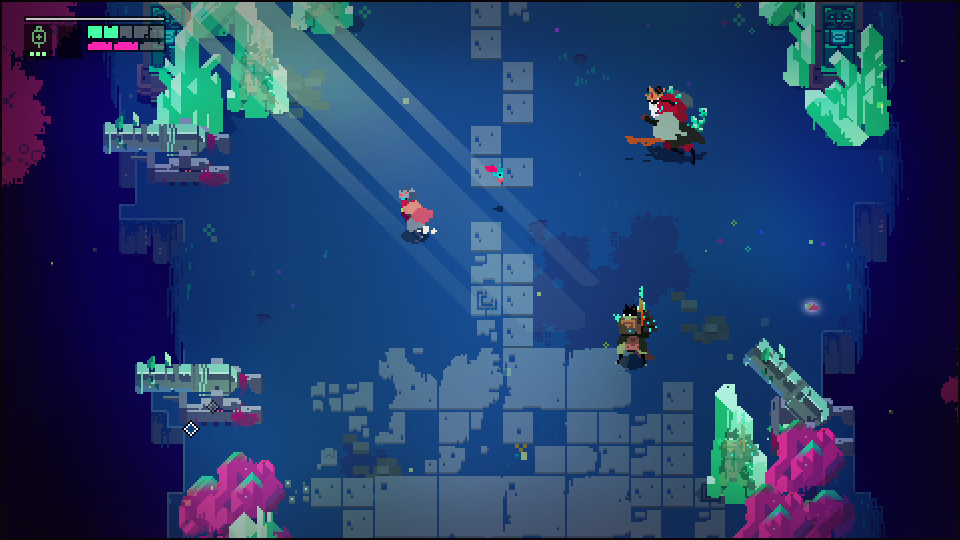hanged_man: (636, 80, 707, 159)
player: (397, 190, 435, 239)
